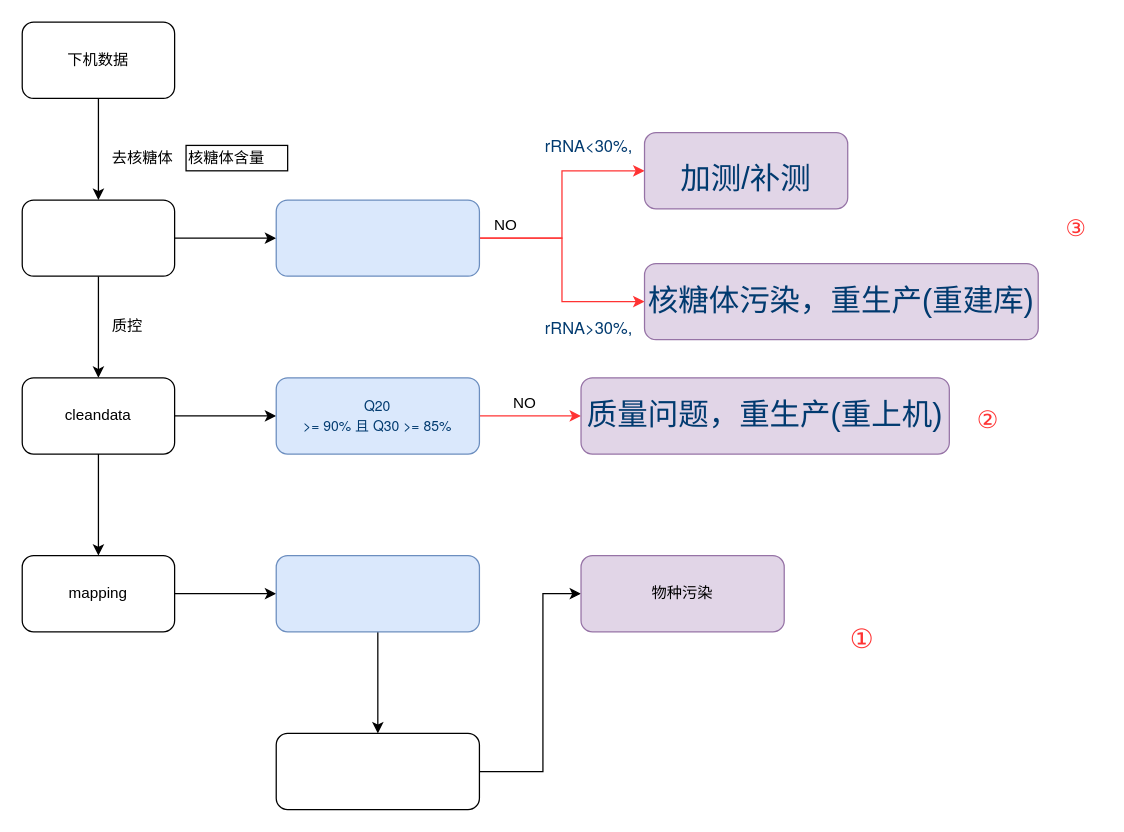
The diagram is 1124 pixels wide and 832 high, and some of its shapes have lost their labels. Each missing label, with the box of its shape:
mapping % 模式物种及原核 > 80% ，其他物种 >60%: (275, 554, 479, 632)
raw （ clean ） > = 合同 98% ；: (275, 199, 479, 276)
rawdata: (21, 199, 175, 276)
排污报告: (275, 732, 479, 810)
